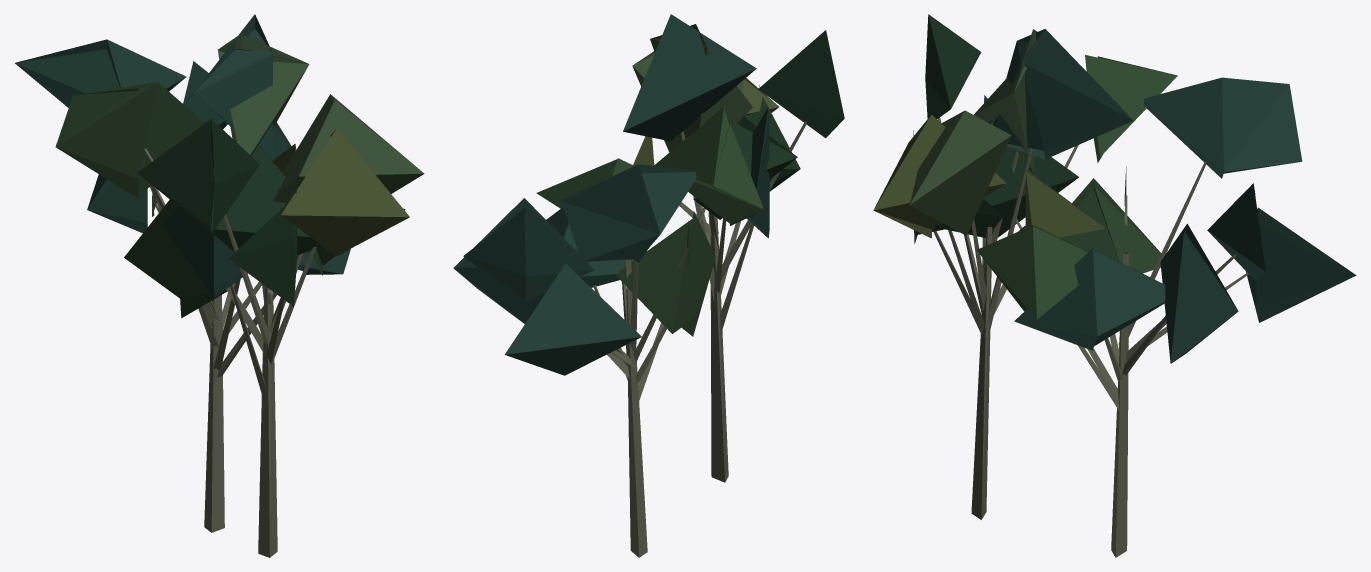
Rendered from forest_21_27.dae.
3 renders of one model, left to right at view 1: azimuth 30°, elevation 25°; view 2: azimuth 150°, elevation 25°; view 3: azimuth 270°, elevation 25°, orthographic. The views are drawn at different scales.
Visible parts, largest first — view 1: Node; view 2: Node; view 3: Node.
Part boxes in pixels (x1=…): Node: x1=15, y1=14, x2=424, y2=557; Node: x1=453, y1=14, x2=844, y2=557; Node: x1=873, y1=14, x2=1356, y2=557.
Bounding box in the file's own units: 2.28 × 3.3 × 3.97.
